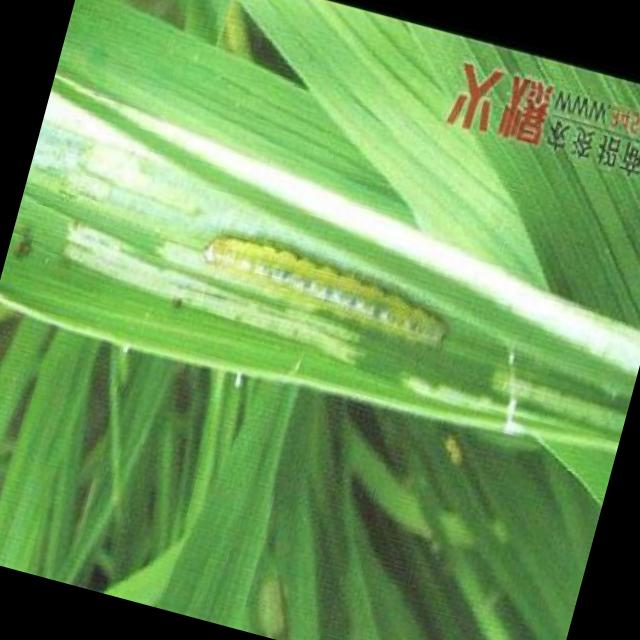leaf-folder: (168, 180, 462, 390)
